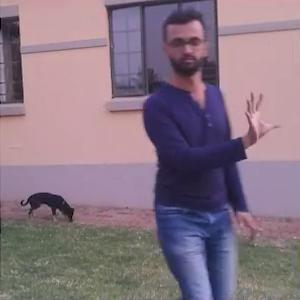follow_hand: (239, 86, 284, 143)
